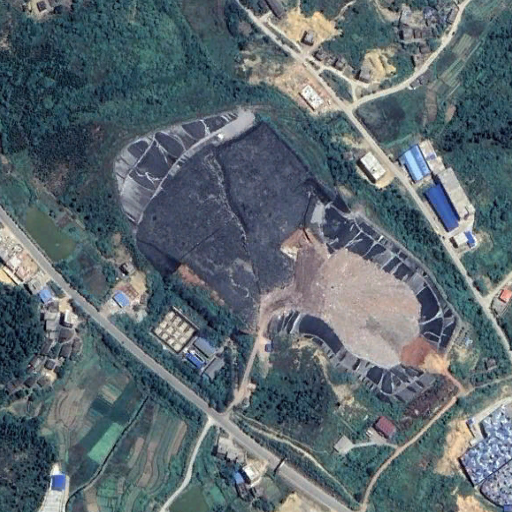lf: (114, 106, 466, 402)
